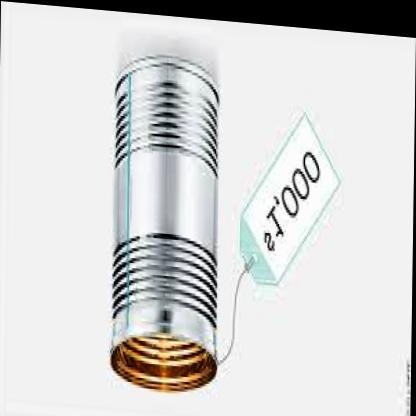trash: (111, 55, 218, 390)
